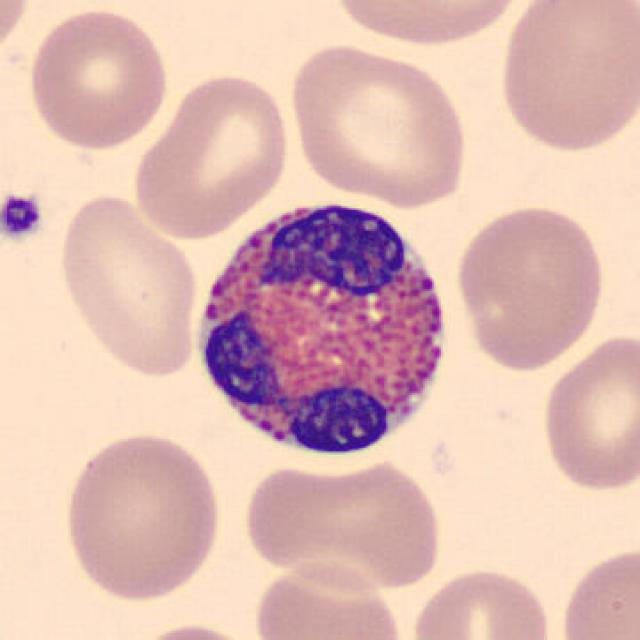Eosinophil: (181, 182, 466, 472)
Platelets: (0, 190, 48, 245)
RBC: (285, 39, 471, 210), (58, 428, 225, 605), (238, 453, 448, 593), (52, 188, 205, 380), (128, 68, 293, 242), (452, 199, 610, 374), (23, 3, 173, 154), (494, 0, 638, 157), (537, 328, 638, 495), (249, 555, 407, 640), (407, 564, 557, 640), (325, 0, 533, 49), (555, 541, 638, 640), (121, 619, 270, 640), (0, 0, 34, 71)
